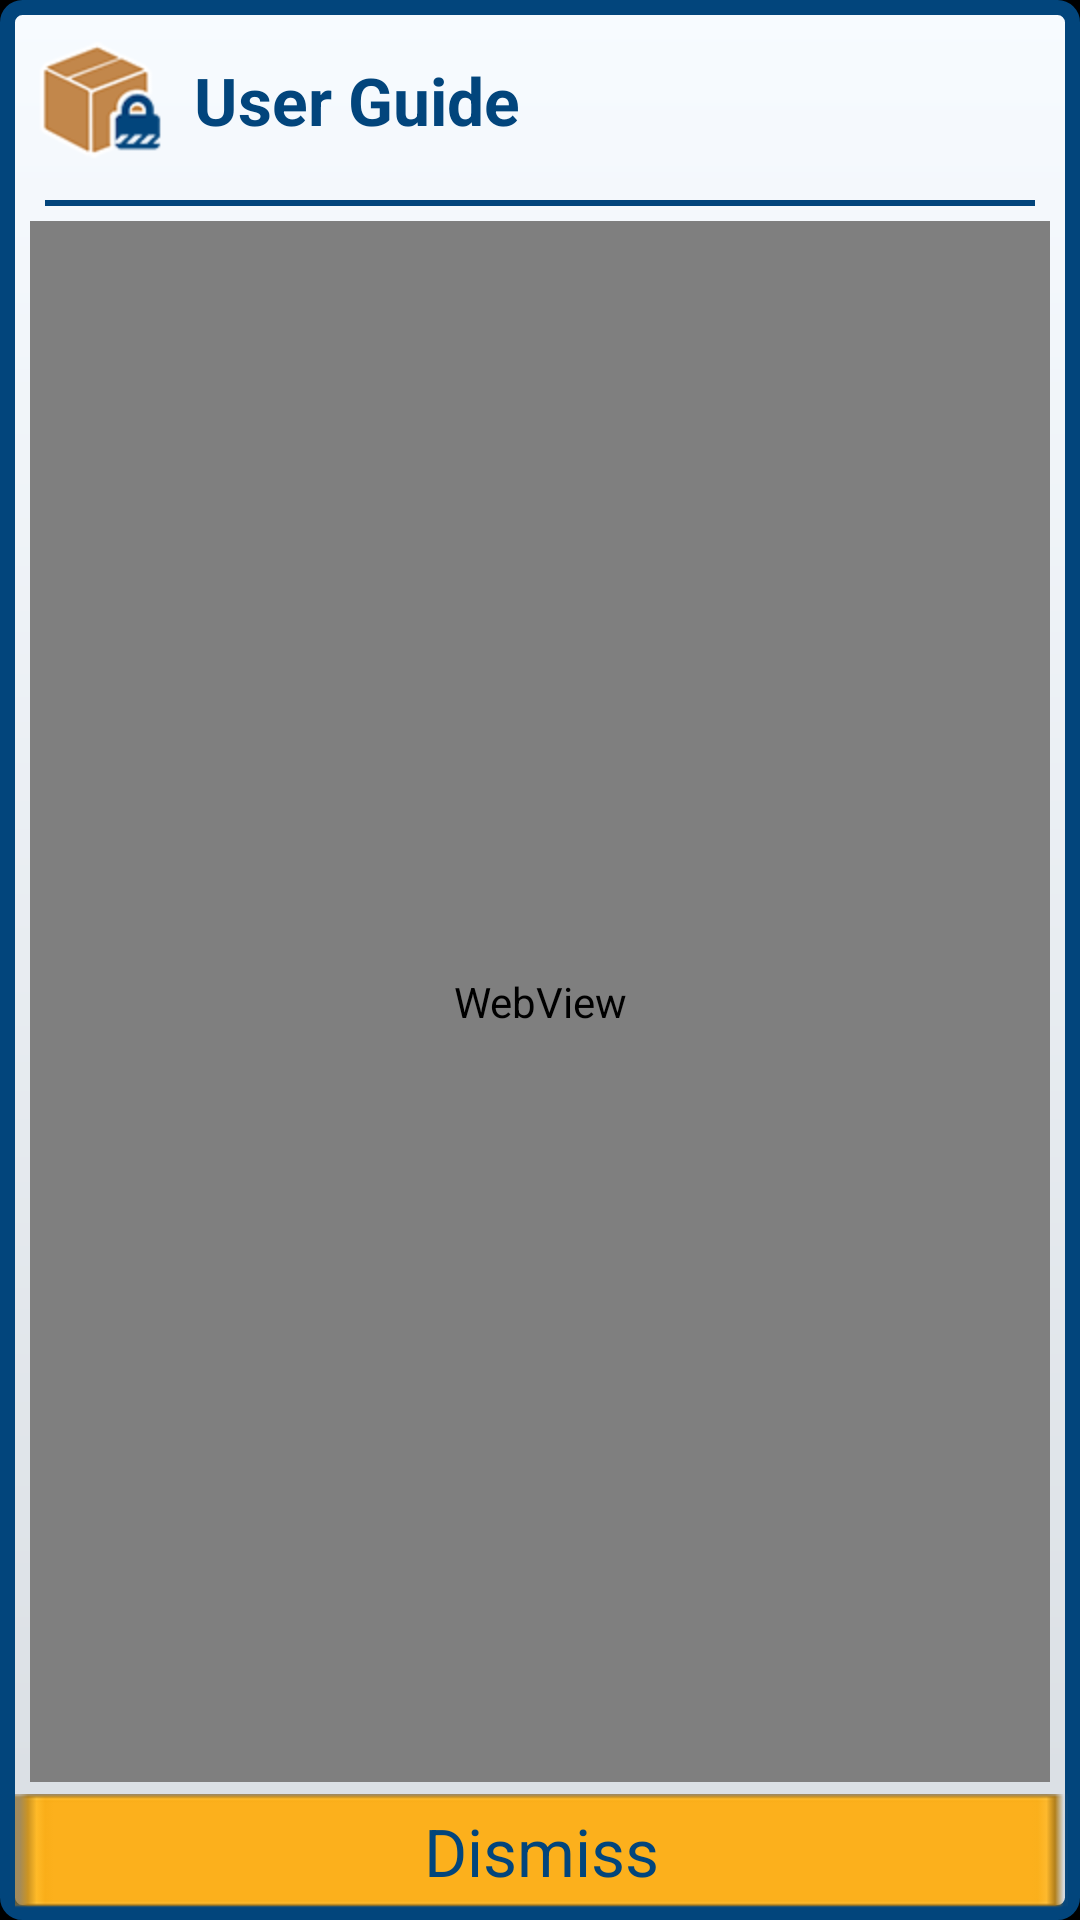

Point at icon controls on the screen. Image size 1080 × 1920, points as (x,y).
privacy: (102,100)
